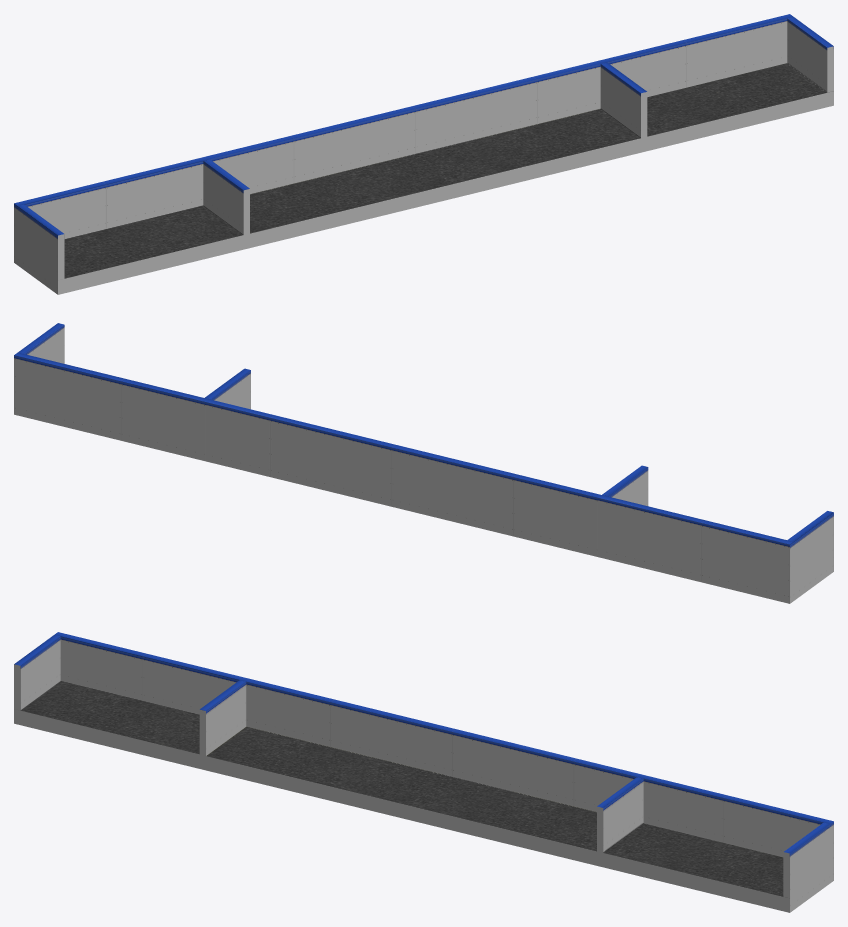
Rendered from Penalty_box_Ufa.FBX.
The picture shows the model from 3 angles, top to bottom: view 1: azimuth 30°, elevation 25°; view 2: azimuth 150°, elevation 25°; view 3: azimuth 330°, elevation 25°; orthographic projection.
Visible parts, largest first — view 1: Penalty_box_Ufa; view 2: Penalty_box_Ufa; view 3: Penalty_box_Ufa.
Part boxes in pixels (x1=…): Penalty_box_Ufa: x1=14, y1=14, x2=833, y2=294; Penalty_box_Ufa: x1=14, y1=323, x2=833, y2=603; Penalty_box_Ufa: x1=14, y1=632, x2=833, y2=912.
Size of the model in its own units: 16.68 by 1.22 by 1.64.
Materials: 1 (1 with a texture image).
